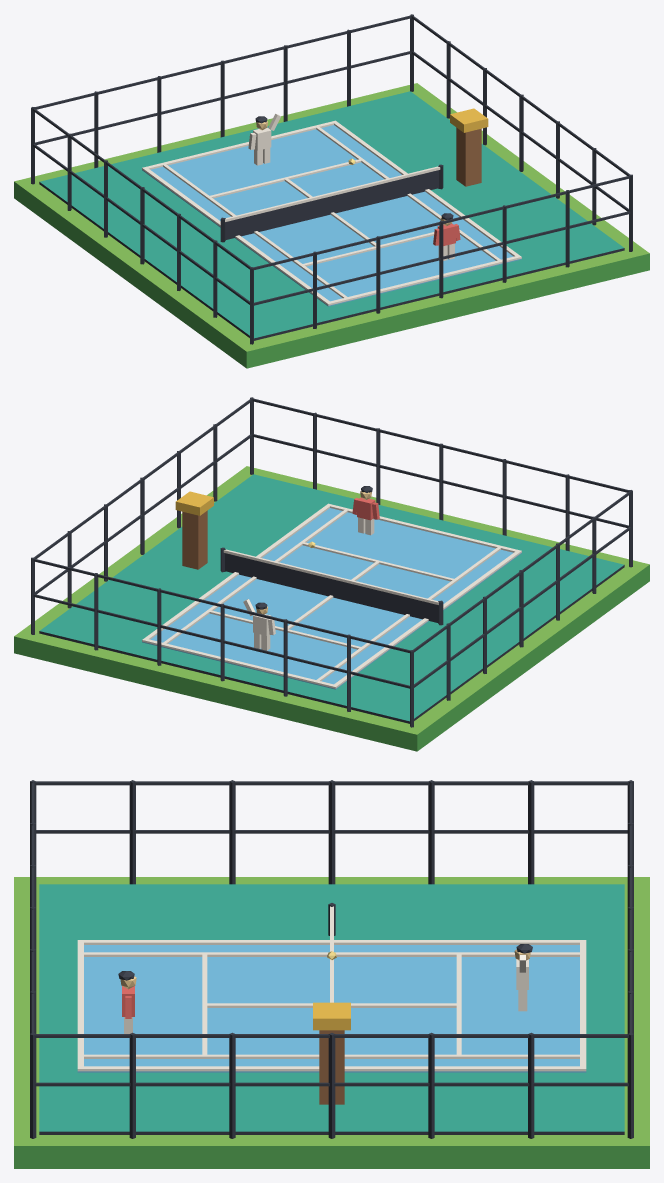
The model's file is sport_tennis.glb.
3 views of the same model, one above another, from view 1: azimuth 30°, elevation 25°; view 2: azimuth 150°, elevation 25°; view 3: azimuth 270°, elevation 25° (orthographic). The views are drawn at different scales.
Visible parts, largest first — view 1: sport_tennis; view 2: sport_tennis; view 3: sport_tennis.
Part boxes in pixels (box(x1,y1,x2,y2)): sport_tennis: box(14, 14, 649, 368); sport_tennis: box(14, 397, 649, 751); sport_tennis: box(14, 780, 649, 1168).
Bounding box in the file's own units: 1 × 0.22 × 1.
